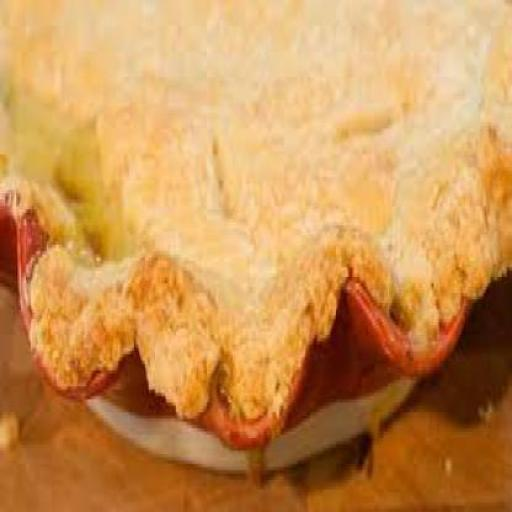biodegradable: (0, 0, 511, 444)
